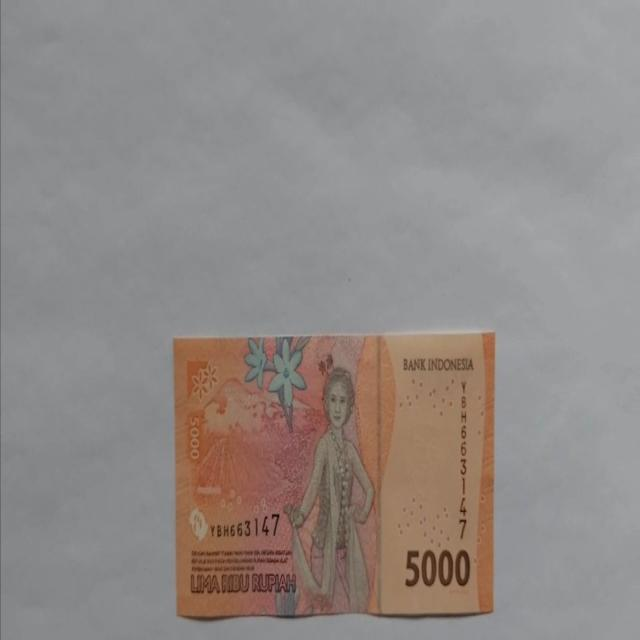lima ribu rupiah: (172, 330, 496, 620), (282, 365, 376, 615)
